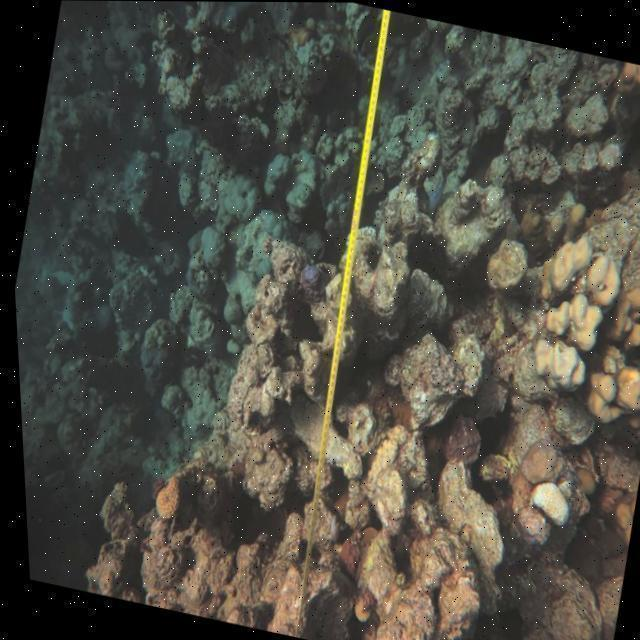Dead Coral: (51, 0, 335, 598), (347, 65, 640, 590)
